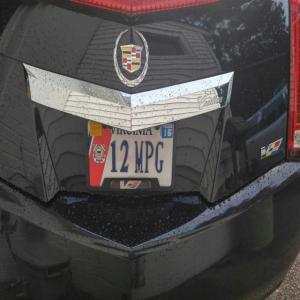Plate: (87, 120, 174, 187)
